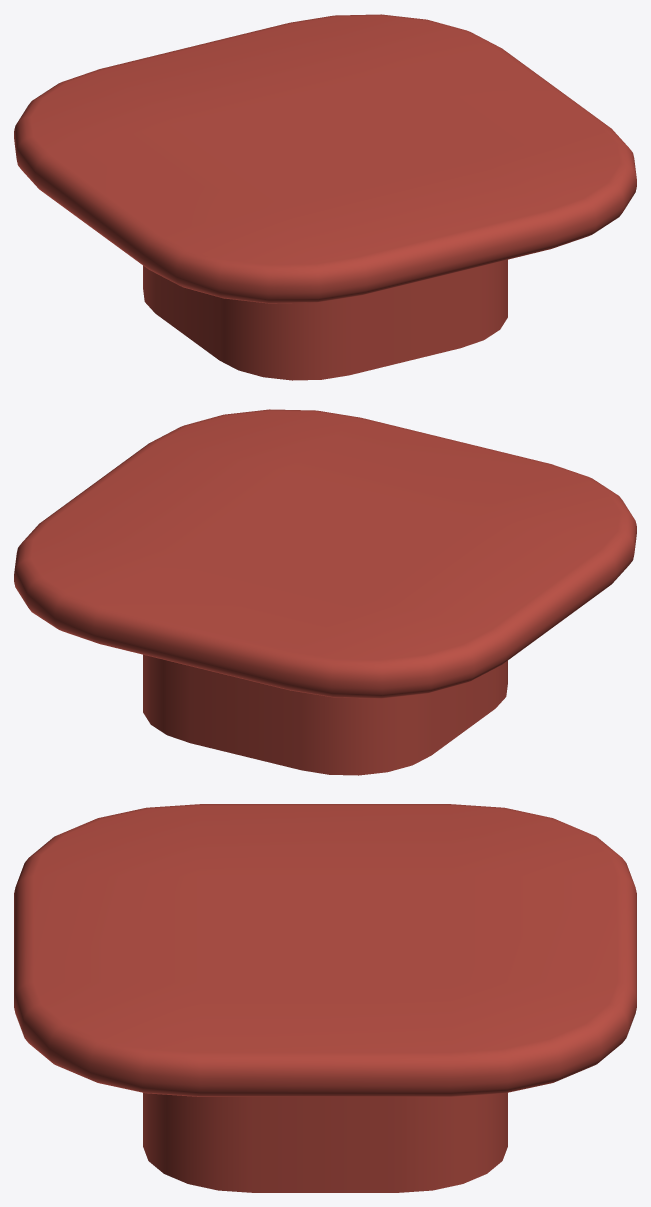
Rendered from CoffeeTable_Sq_Plastic3.glb.
The picture shows the model from 3 angles, top to bottom: view 1: azimuth 30°, elevation 25°; view 2: azimuth 150°, elevation 25°; view 3: azimuth 270°, elevation 25°; orthographic projection. The views are drawn at different scales.
Parts seen in each view (by area): view 1: Cube.007, Cube; view 2: Cube.007, Cube; view 3: Cube.007, Cube.
Part boxes in pixels (x1,y1,x2,y2): Cube.007: [14, 14, 636, 303]; Cube: [143, 259, 507, 380]; Cube.007: [14, 409, 636, 698]; Cube: [143, 654, 507, 775]; Cube.007: [14, 804, 636, 1096]; Cube: [143, 1093, 507, 1192].
Size of the model in its own units: 1.53 by 0.5061 by 1.53.
Materials: 1 (1 with a texture image).
